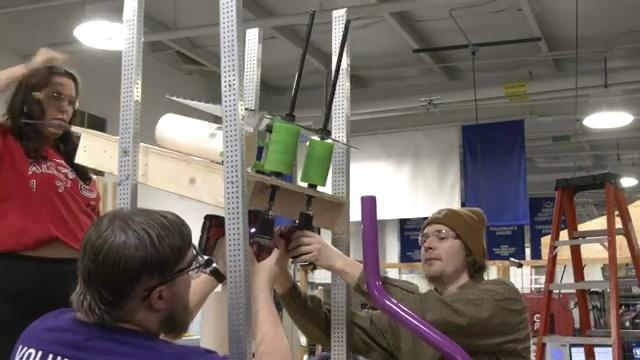CORAL: (155, 113, 224, 162)
